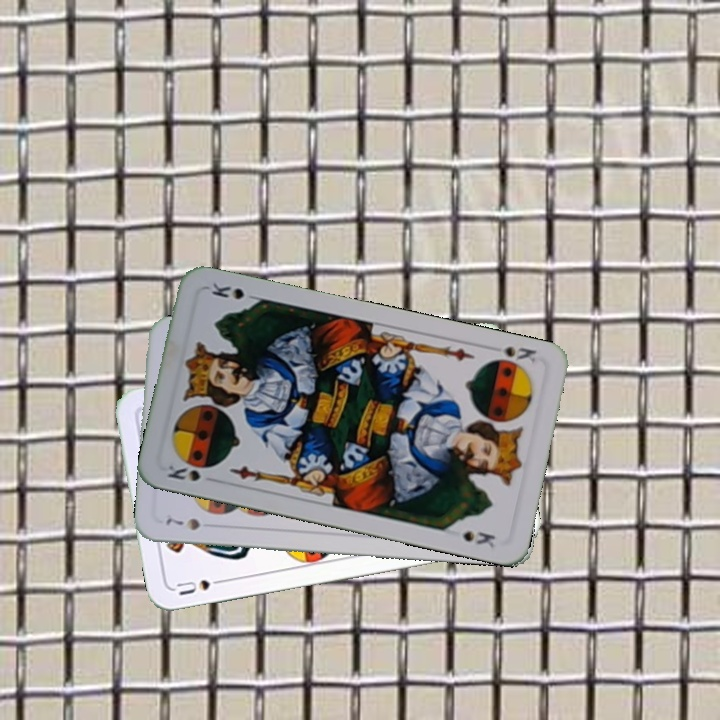S7: (162, 514, 203, 533)
SK: (485, 342, 539, 371), (163, 461, 203, 484)
SU: (171, 572, 230, 598)
